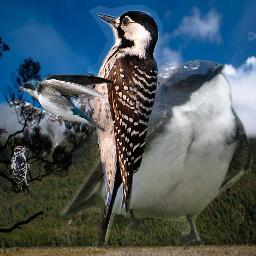Swallow: (60, 59, 253, 252), (18, 73, 115, 132)
Woodpecker: (82, 4, 163, 252), (10, 146, 30, 196)
